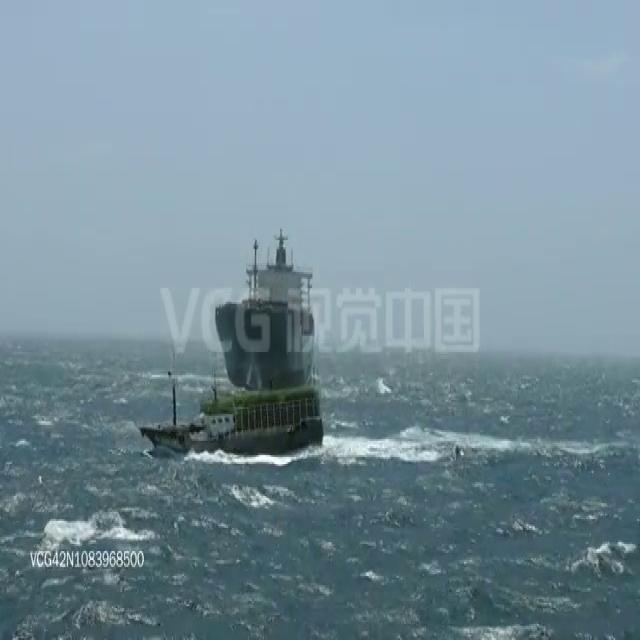cargoship: (216, 227, 320, 383)
fishing boat: (140, 368, 323, 460)
